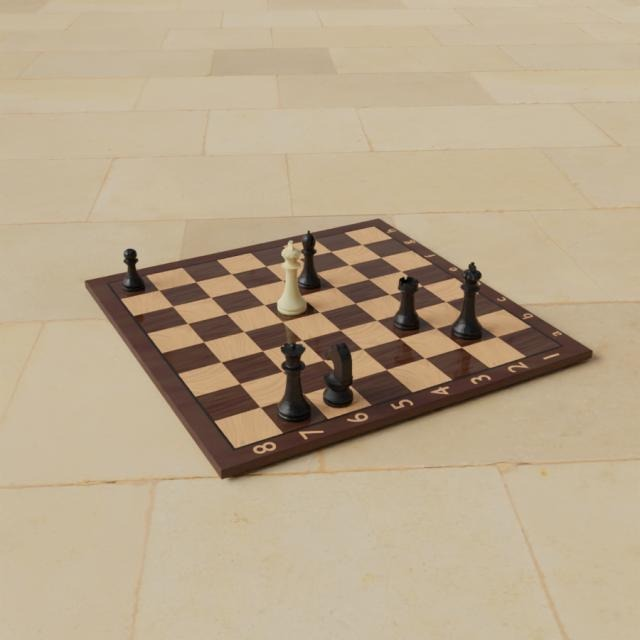black-bishop: (298, 228, 322, 291)
black-king: (450, 259, 484, 342)
black-knight: (322, 337, 356, 410)
black-pawn: (119, 246, 148, 294)
black-queen: (274, 340, 313, 424)
black-rook: (391, 273, 421, 331)
white-king: (276, 240, 308, 316)
